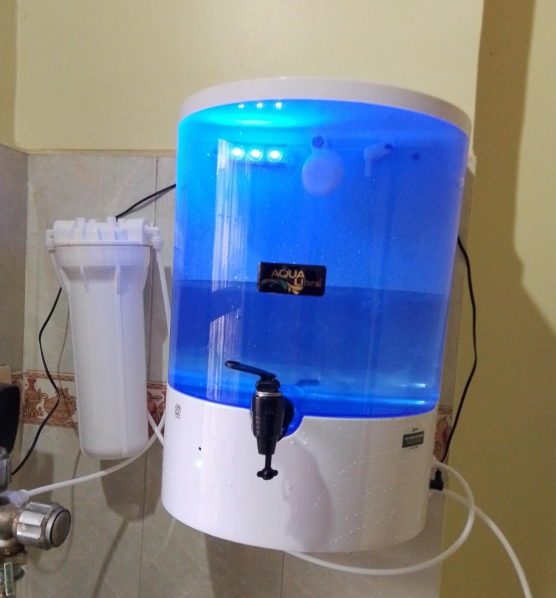water purifier: (177, 65, 485, 549)
